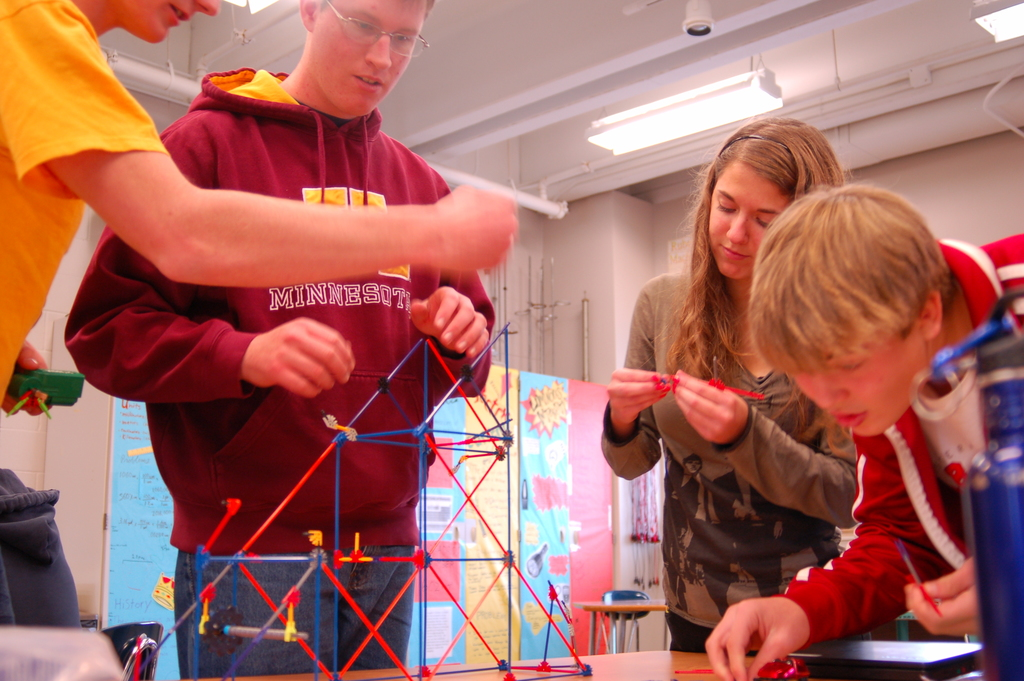Human_hand: (241, 315, 353, 398), (709, 571, 795, 673), (430, 183, 516, 275), (902, 555, 981, 637), (409, 285, 492, 361), (671, 368, 749, 445), (0, 339, 54, 418), (601, 365, 670, 424)
